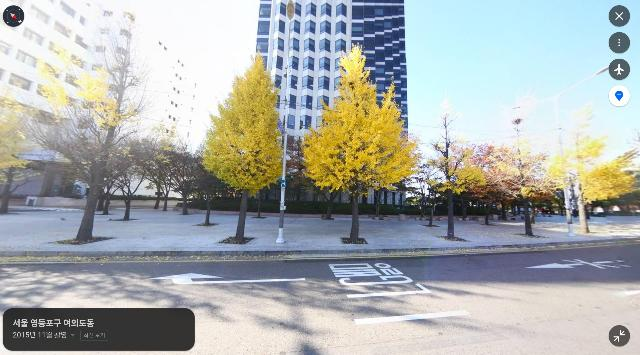ginkgo: (19, 30, 151, 245), (301, 41, 420, 244), (199, 51, 285, 244), (545, 114, 640, 235), (420, 96, 487, 240)
other: (95, 137, 149, 222), (150, 138, 199, 216), (133, 136, 176, 211)
